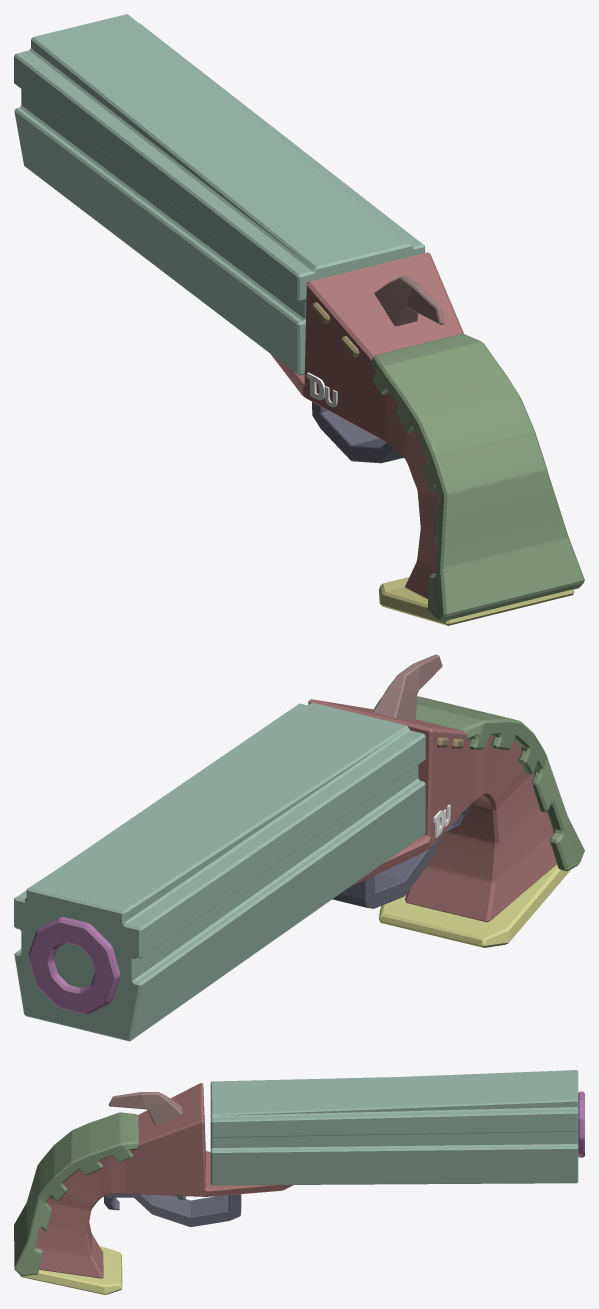
File: GUNdu.fbx
3 renders of one model, top to bottom at view 1: azimuth 30°, elevation 25°; view 2: azimuth 150°, elevation 25°; view 3: azimuth 270°, elevation 25°, orthographic. The views are drawn at different scales.
Parts seen in each view (by area): view 1: polySurface2, pCube8, pCube7, pCube6, pCube5, pCube9; view 2: polySurface2, pCube7, pCube8, polySurface1, pCube5, pCube6, pCube9; view 3: polySurface2, pCube7, pCube8, pCube6, pCube5, pCube9, polySurface1.
Boxes of the visible parts, box(x1,y1,x2,y2) form: polySurface2: box(14, 14, 424, 375); pCube8: box(371, 333, 584, 622); pCube7: box(271, 252, 463, 599); pCube6: box(312, 402, 403, 463); pCube5: box(379, 577, 574, 625); pCube9: box(374, 275, 444, 326); polySurface2: box(14, 702, 425, 1041); pCube7: box(308, 699, 556, 922); pCube8: box(374, 696, 584, 871); polySurface1: box(28, 917, 120, 1014); pCube5: box(379, 864, 571, 947); pCube6: box(332, 804, 471, 908); pCube9: box(372, 654, 442, 720); polySurface2: box(210, 1070, 578, 1185); pCube7: box(35, 1083, 293, 1278); pCube8: box(14, 1112, 138, 1275); pCube6: box(104, 1193, 241, 1226); pCube5: box(19, 1246, 122, 1294); pCube9: box(108, 1092, 182, 1125); polySurface1: box(578, 1091, 584, 1157).
Size of the model in its own units: 3.39 by 6.8 by 18.39.
